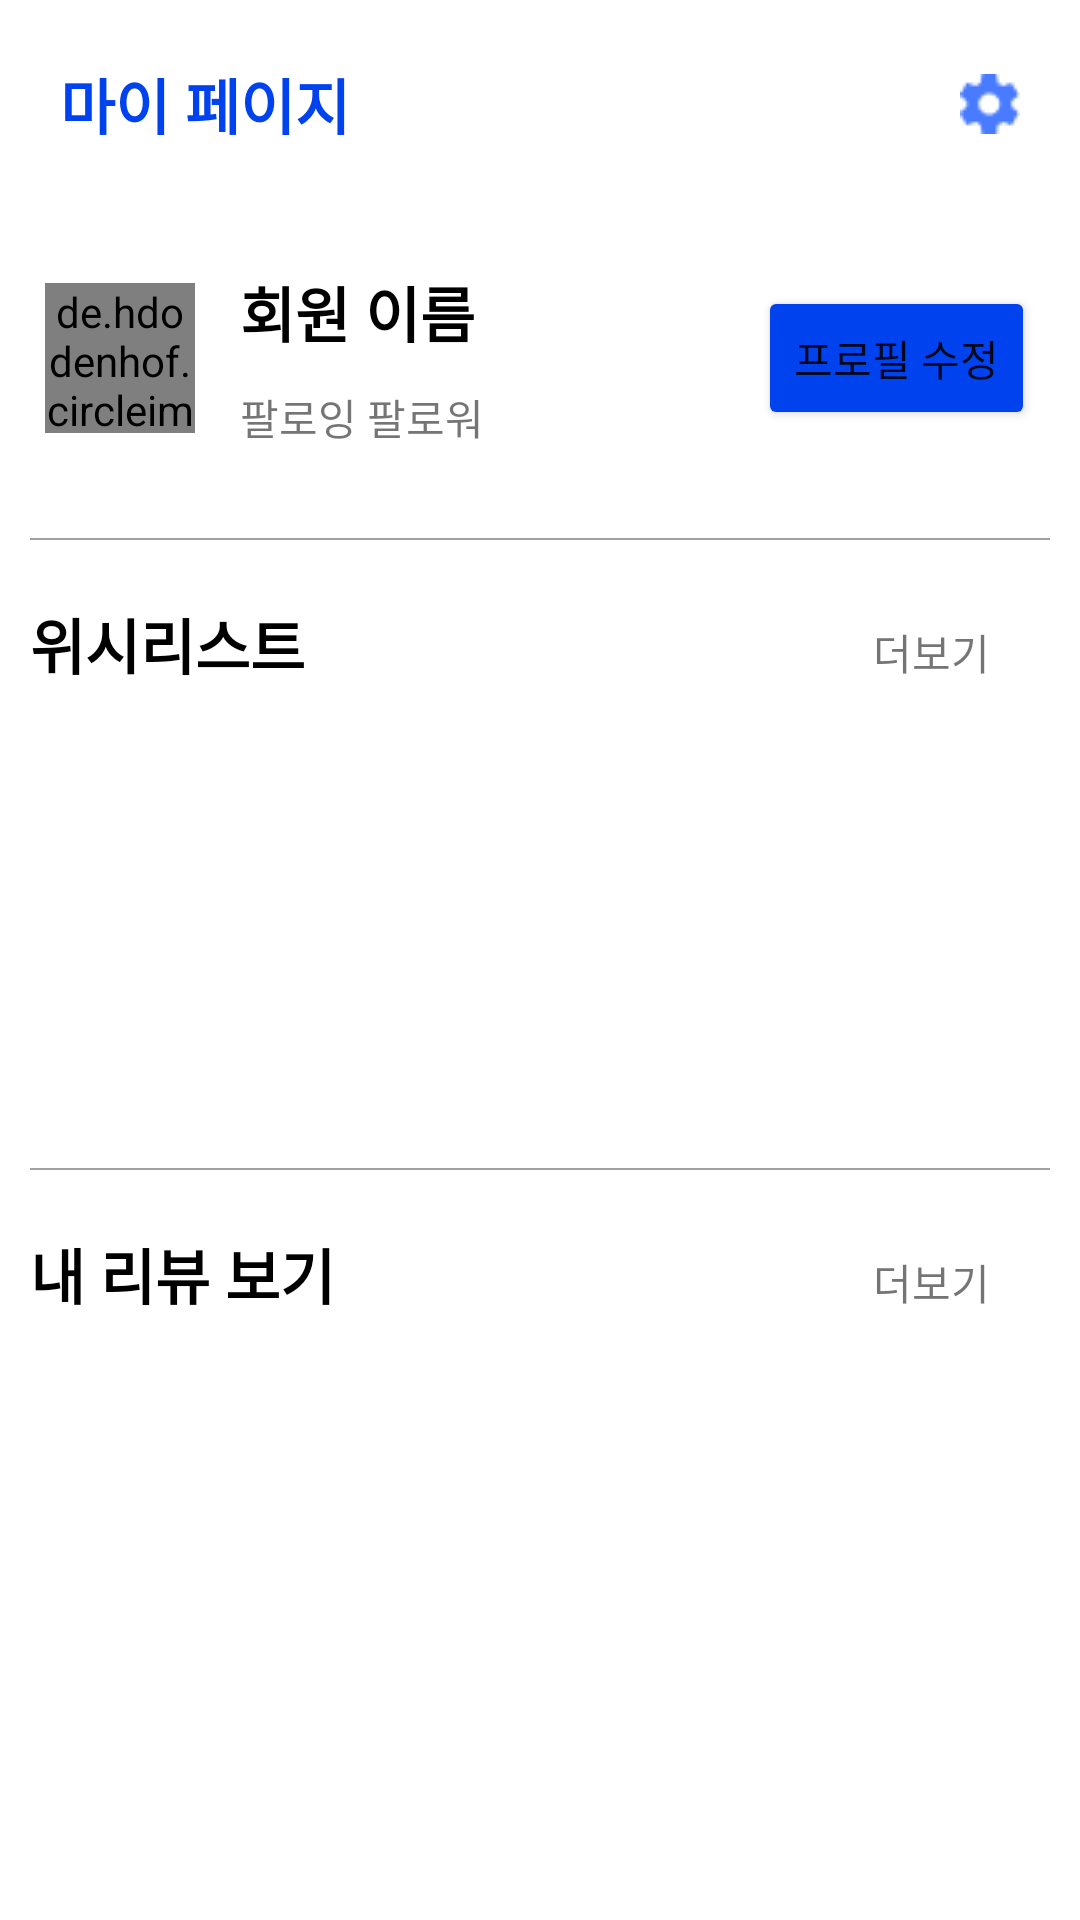

Icon click points for this 1080w x 1920h phone screenshot, format point (x, y):
setting: point (990, 104)
